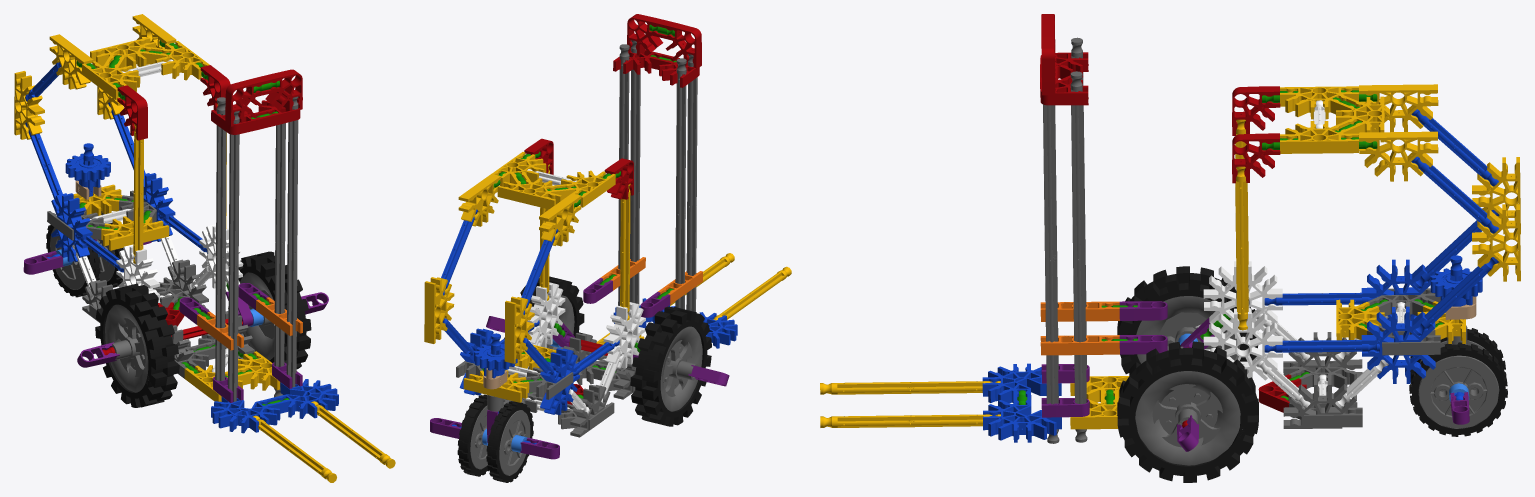
3 renders of one model, left to right at view 1: azimuth 30°, elevation 25°; view 2: azimuth 150°, elevation 25°; view 3: azimuth 270°, elevation 25°, orthographic. The views are drawn at different scales.
Parts seen in each view (by area): view 1: P2_L12.004; view 2: P2_L12.004; view 3: P2_L12.004.
Part boxes in pixels (left/top/right/bottom): P2_L12.004: left=14, top=14, right=395, bottom=482; P2_L12.004: left=424, top=14, right=791, bottom=482; P2_L12.004: left=820, top=14, right=1520, bottom=482.
Bounding box in the file's own units: 1.55 × 2.1 × 3.26.
